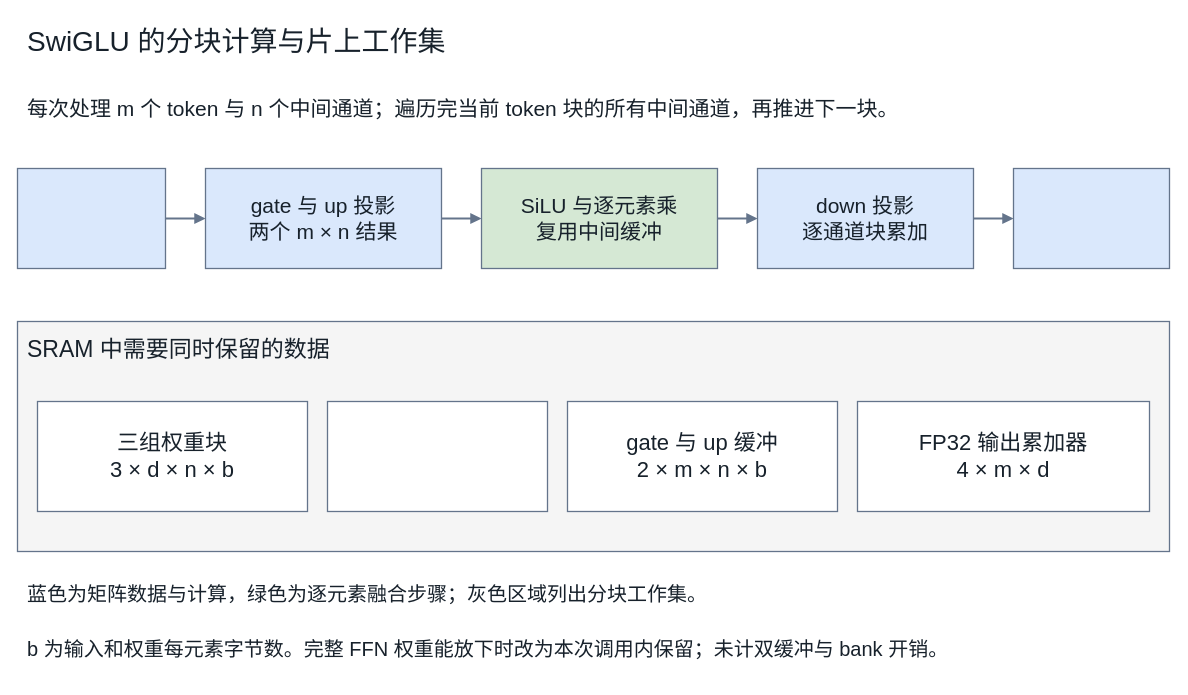
This 1188x695 diagram has some shape labels left out. Here are the shapes that lost their labels. From the top down, the box of each, then its label:
(16, 167, 166, 269): 输入块 m × d
(1012, 167, 1170, 269): 输出 m × d
(326, 400, 548, 512): 输入块 m × d × b
